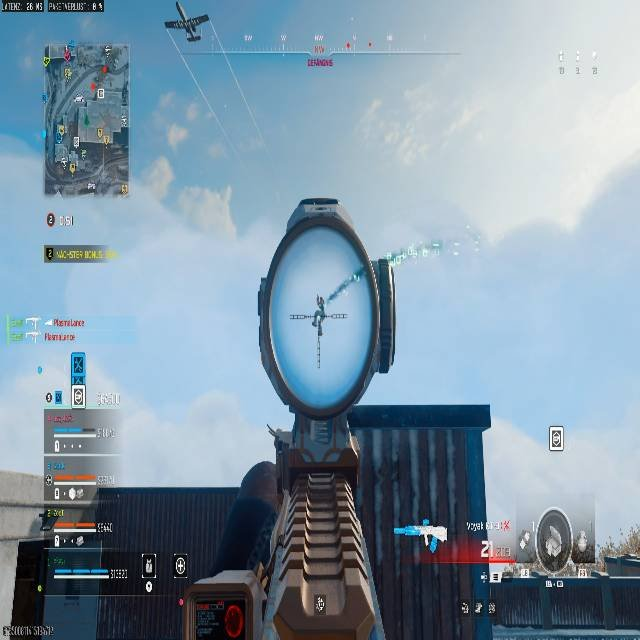player: (312, 294, 326, 336)
